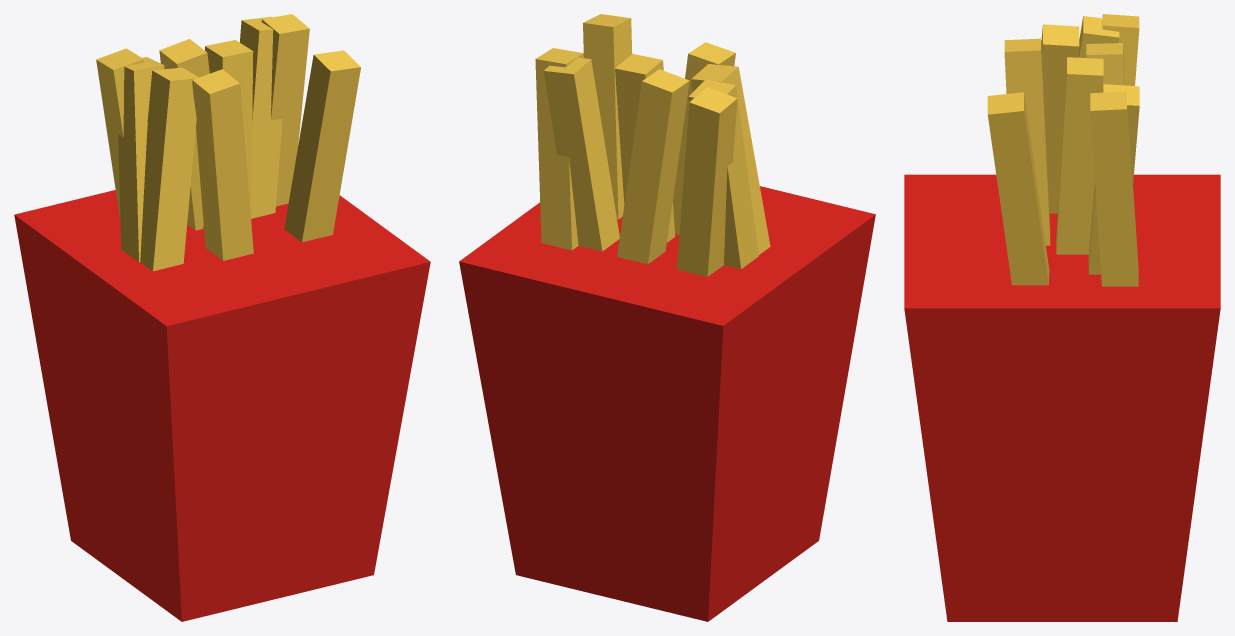
Rendered from french_fries.glb.
3 renders of one model, left to right at view 1: azimuth 30°, elevation 25°; view 2: azimuth 150°, elevation 25°; view 3: azimuth 270°, elevation 25°, orthographic. The views are drawn at different scales.
Visible parts, largest first — view 1: french_fries; view 2: french_fries; view 3: french_fries.
Boxes of the visible parts, left/top/right/bottom form: french_fries: left=14, top=14, right=430, bottom=621; french_fries: left=459, top=14, right=875, bottom=621; french_fries: left=904, top=14, right=1220, bottom=621.
Bounding box in the file's own units: 0.0778 × 0.1405 × 0.0778.
